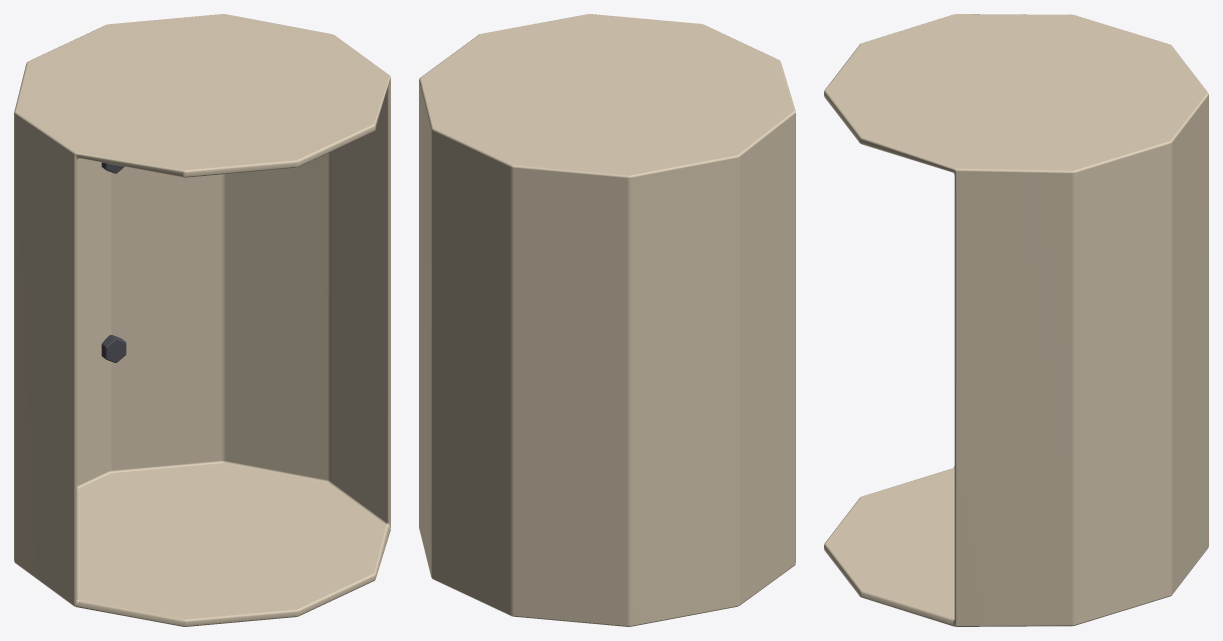
The model's file is kitbash_shell_leg_right_001_upper.glb.
3 renders of one model, left to right at view 1: azimuth 30°, elevation 25°; view 2: azimuth 150°, elevation 25°; view 3: azimuth 270°, elevation 25°, orthographic.
Parts seen in each view (by area): view 1: SHELL_legR_up; view 2: SHELL_legR_up; view 3: SHELL_legR_up.
Boxes of the visible parts, left/top/right/bottom form: SHELL_legR_up: left=14, top=14, right=390, bottom=626; SHELL_legR_up: left=419, top=14, right=795, bottom=626; SHELL_legR_up: left=824, top=14, right=1208, bottom=626.
Bounding box in the file's own units: 0.5309 × 0.724 × 0.548.
